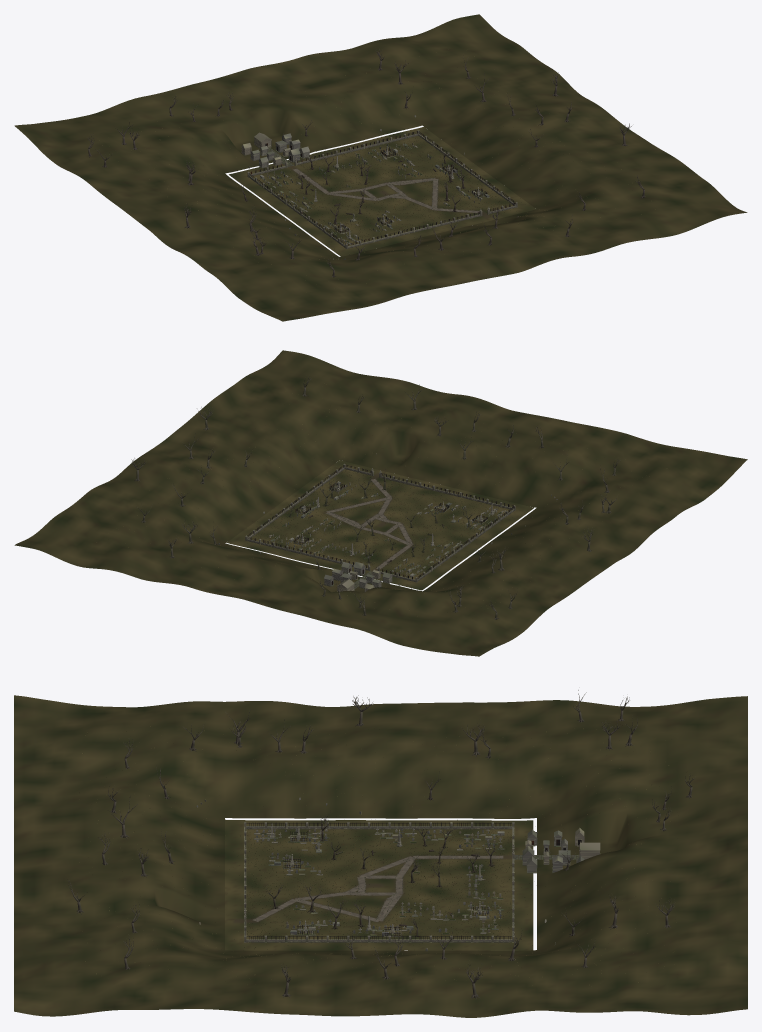
File: graveyard.glb
The picture shows the model from 3 angles, top to bottom: view 1: azimuth 30°, elevation 25°; view 2: azimuth 150°, elevation 25°; view 3: azimuth 270°, elevation 25°; orthographic projection. The views are drawn at different scales.
Visible parts, largest first — view 1: ground-out-ground, ground-in-ground, outer-bark, walls-stone, north-stone, es-ground, walls-iron, es-stone, grass-grass, en-stone, wn-stone, ws-stone; view 2: ground-out-ground, ground-in-ground, outer-bark, walls-stone, north-stone, es-ground, es-stone, walls-iron, grass-grass, en-stone, wn-stone; view 3: ground-out-ground, ground-in-ground, outer-bark, walls-stone, es-ground, north-stone, es-stone, grass-grass, en-stone, ws-stone, wn-stone, walls-iron.
Boxes of the visible parts, box(x1,y1,x2,y2) form: ground-out-ground: box(14, 14, 747, 321); ground-in-ground: box(229, 126, 536, 256); outer-bark: box(88, 49, 645, 277); walls-stone: box(247, 130, 517, 248); north-stone: box(241, 132, 309, 168); es-ground: box(293, 168, 479, 212); walls-iron: box(249, 131, 515, 246); es-stone: box(293, 151, 489, 233); grass-grass: box(259, 138, 511, 240); en-stone: box(348, 143, 457, 178); wn-stone: box(260, 156, 351, 210); ws-stone: box(303, 208, 401, 244); ground-out-ground: box(14, 350, 747, 656); ground-in-ground: box(226, 460, 534, 590); outer-bark: box(131, 375, 620, 619); walls-stone: box(245, 463, 515, 582); north-stone: box(324, 562, 392, 592); es-ground: box(326, 479, 412, 568); es-stone: box(293, 478, 487, 569); walls-iron: box(247, 465, 514, 579); grass-grass: box(257, 470, 508, 576); en-stone: box(269, 505, 346, 553); wn-stone: box(346, 533, 459, 577); ground-out-ground: box(14, 695, 747, 1017); ground-in-ground: box(225, 819, 533, 950); outer-bark: box(67, 690, 694, 999); walls-stone: box(244, 822, 514, 942); es-ground: box(253, 855, 503, 921); north-stone: box(514, 828, 600, 873); es-stone: box(253, 835, 502, 936); grass-grass: box(246, 829, 511, 939); en-stone: box(376, 883, 503, 936); ws-stone: box(254, 823, 380, 875); wn-stone: box(380, 828, 504, 884); walls-iron: box(245, 822, 511, 939).
Size of the model in its own units: 219 by 22.01 by 219.
